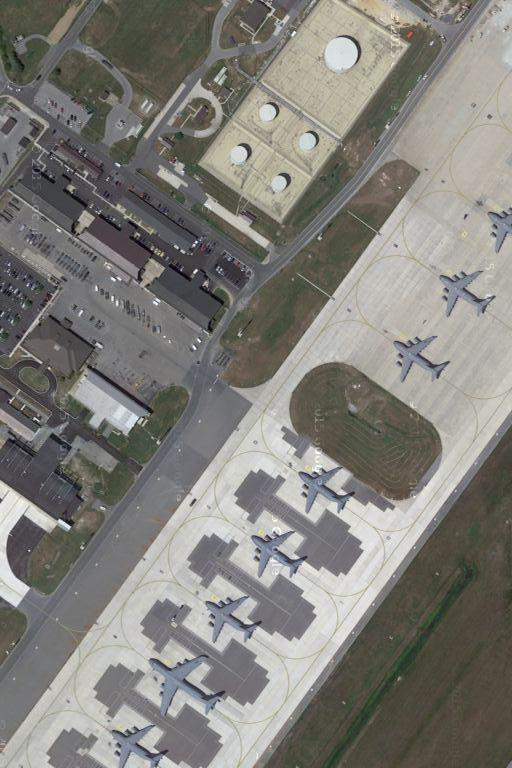C-17: (386, 329, 450, 386), (246, 524, 308, 582), (437, 266, 496, 322), (201, 590, 262, 643), (295, 462, 353, 516), (108, 718, 169, 768)
KC-135: (148, 653, 228, 721)
